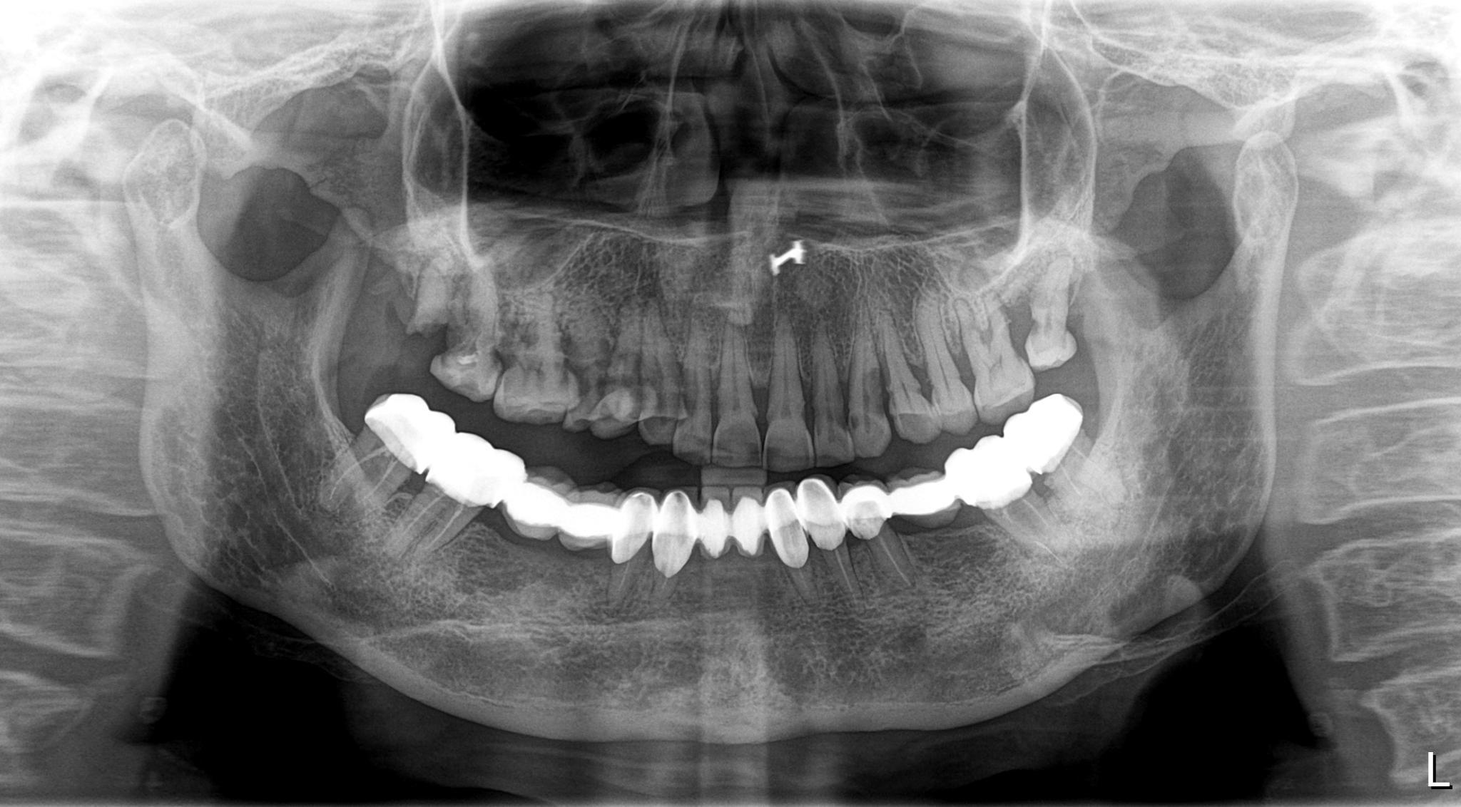Attrition: (494, 355, 580, 423), (428, 342, 499, 397), (765, 417, 810, 471), (717, 417, 753, 464), (678, 421, 714, 462), (852, 410, 882, 454), (819, 422, 850, 460)
Endodontically Treated Tooth: (1033, 415, 1111, 531), (967, 458, 1039, 571), (357, 403, 414, 538), (437, 428, 483, 567), (810, 488, 854, 615), (861, 495, 907, 602)
